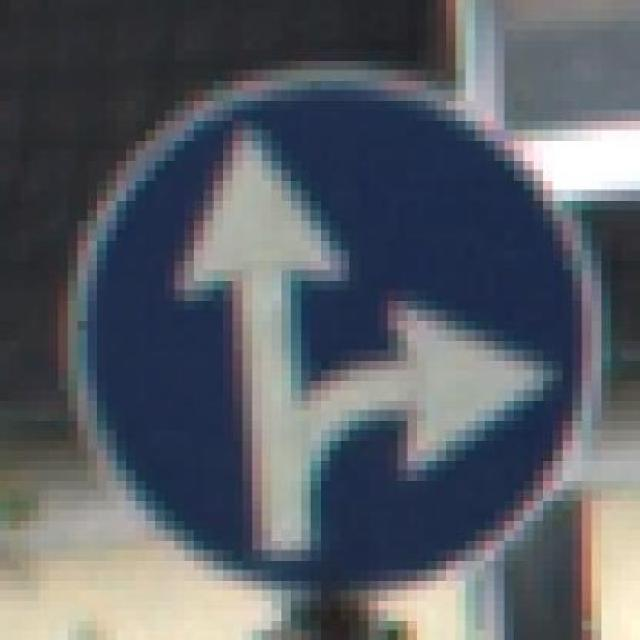Go Straight or Turn Right: (39, 60, 621, 611)
